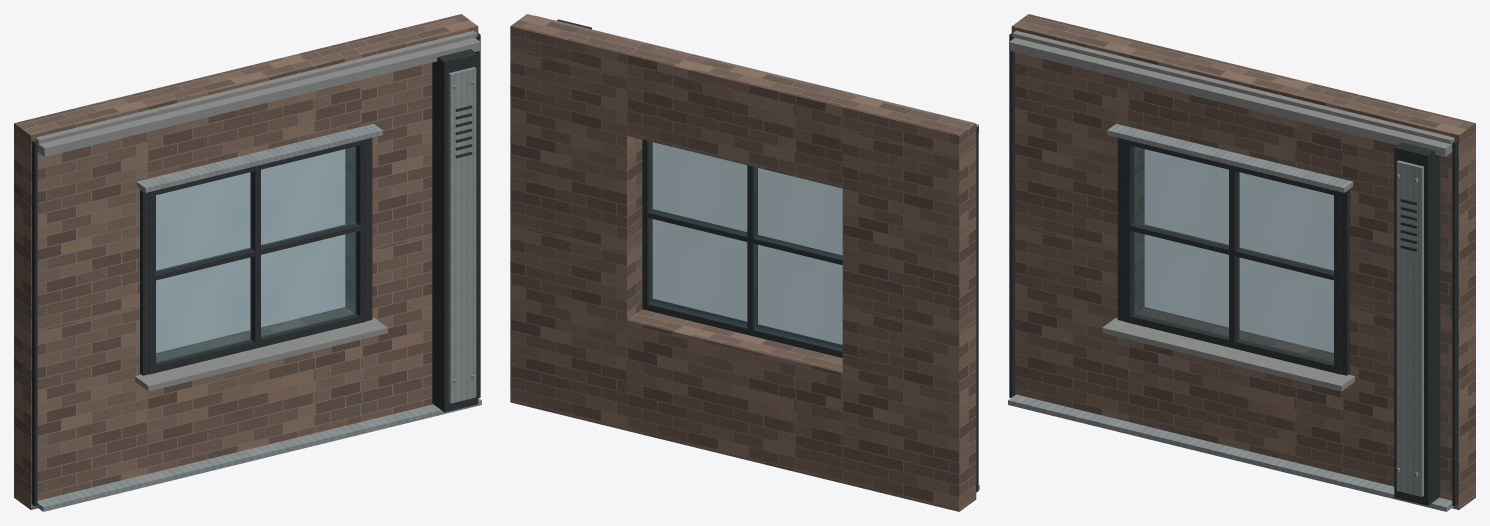
The model's file is PZ_FACADE_4m_Window_ServicePipeChase.glb.
The picture shows the model from 3 angles, left to right: view 1: azimuth 30°, elevation 25°; view 2: azimuth 150°, elevation 25°; view 3: azimuth 330°, elevation 25°; orthographic projection.
Visible parts, largest first — view 1: F01_B03_Wall_LeftPier, F01_B03_Wall_RightPier, F01_B03_Wall_SillSpandrel, F01_B03_Wall_Header, F01_B03_PIPECHASE_FacePlate, F01_B03_GLASS_BREAKABLE_Left_Lower, F01_B03_GLASS_BREAKABLE_Right_Lower, F01_B03_PIPECHASE_MainHousing, F01_B03_GLASS_BREAKABLE_Left_Upper, F01_B03_GLASS_BREAKABLE_Right_Upper, F01_B03_FireStop_StoreyBand, F01_B03_Facade_BaseFlashing (+13 smaller); view 2: F01_B03_Wall_LeftPier, F01_B03_Wall_RightPier, F01_B03_Wall_SillSpandrel, F01_B03_Wall_Header, F01_B03_GLASS_BREAKABLE_Right_Lower, F01_B03_GLASS_BREAKABLE_Left_Lower, F01_B03_GLASS_BREAKABLE_Right_Upper, F01_B03_GLASS_BREAKABLE_Left_Upper, F01_B03_Window_Frame_Bottom, F01_B03_Window_Crossbar, F01_B03_Window_Frame_Right, F01_B03_Window_Mullion (+1 smaller); view 3: F01_B03_Wall_LeftPier, F01_B03_Wall_RightPier, F01_B03_Wall_SillSpandrel, F01_B03_Wall_Header, F01_B03_PIPECHASE_FacePlate, F01_B03_GLASS_BREAKABLE_Right_Lower, F01_B03_GLASS_BREAKABLE_Left_Lower, F01_B03_PIPECHASE_MainHousing, F01_B03_GLASS_BREAKABLE_Left_Upper, F01_B03_GLASS_BREAKABLE_Right_Upper, F01_B03_FireStop_StoreyBand, F01_B03_Facade_BaseFlashing (+13 smaller).
Part boxes in pixels (x1,y1,x2,y2): F01_B03_Wall_LeftPier: (14,95,147,509); F01_B03_Wall_RightPier: (345,14,478,421); F01_B03_Wall_SillSpandrel: (147,307,361,473); F01_B03_Wall_Header: (130,42,361,178); F01_B03_PIPECHASE_FacePlate: (448,67,476,403); F01_B03_GLASS_BREAKABLE_Left_Lower: (156,257,251,362); F01_B03_GLASS_BREAKABLE_Right_Lower: (261,232,356,337); F01_B03_PIPECHASE_MainHousing: (432,49,478,412); F01_B03_GLASS_BREAKABLE_Left_Upper: (156,172,251,271); F01_B03_GLASS_BREAKABLE_Right_Upper: (261,146,356,245); F01_B03_FireStop_StoreyBand: (37,38,480,156); F01_B03_Facade_BaseFlashing: (36,398,481,511); F01_B03_Wall_LeftPier: (842,95,976,511); F01_B03_Wall_RightPier: (510,14,643,430); F01_B03_Wall_SillSpandrel: (627,309,842,483); F01_B03_Wall_Header: (627,42,858,188); F01_B03_GLASS_BREAKABLE_Right_Lower: (649,218,747,326); F01_B03_GLASS_BREAKABLE_Left_Lower: (754,244,842,350); F01_B03_GLASS_BREAKABLE_Right_Upper: (649,141,747,235); F01_B03_GLASS_BREAKABLE_Left_Upper: (754,167,842,258); F01_B03_Window_Frame_Bottom: (642,301,842,357); F01_B03_Window_Crossbar: (647,209,842,265); F01_B03_Window_Frame_Right: (642,139,652,310); F01_B03_Window_Mullion: (747,165,757,329); F01_B03_Wall_LeftPier: (1011,14,1144,421); F01_B03_Wall_RightPier: (1342,95,1475,509); F01_B03_Wall_SillSpandrel: (1128,307,1342,473); F01_B03_Wall_Header: (1128,42,1359,178); F01_B03_PIPECHASE_FacePlate: (1396,160,1423,496); F01_B03_GLASS_BREAKABLE_Right_Lower: (1238,257,1333,362); F01_B03_GLASS_BREAKABLE_Left_Lower: (1133,232,1228,337); F01_B03_PIPECHASE_MainHousing: (1394,142,1440,505); F01_B03_GLASS_BREAKABLE_Left_Upper: (1133,146,1228,245); F01_B03_GLASS_BREAKABLE_Right_Upper: (1238,172,1333,271); F01_B03_FireStop_StoreyBand: (1009,38,1452,156); F01_B03_Facade_BaseFlashing: (1008,394,1453,511).
Size of the model in its own units: 4 by 3.2 by 0.56.
Materials: 6 (6 with a texture image).
